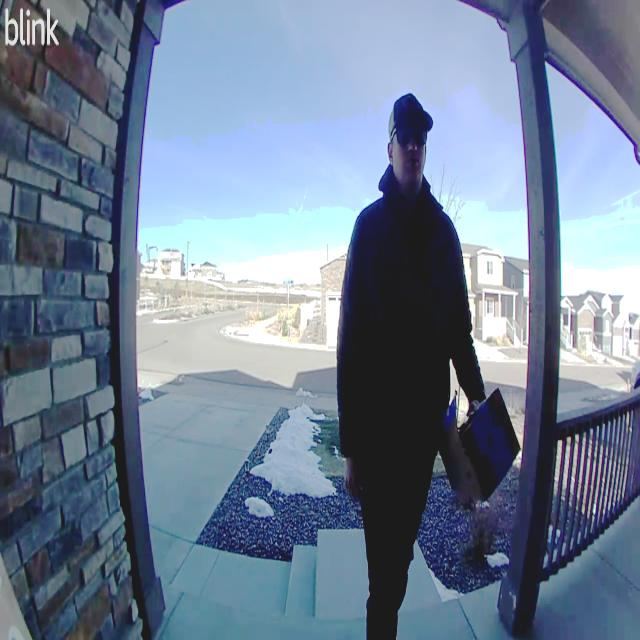Box: (444, 388, 520, 503)
